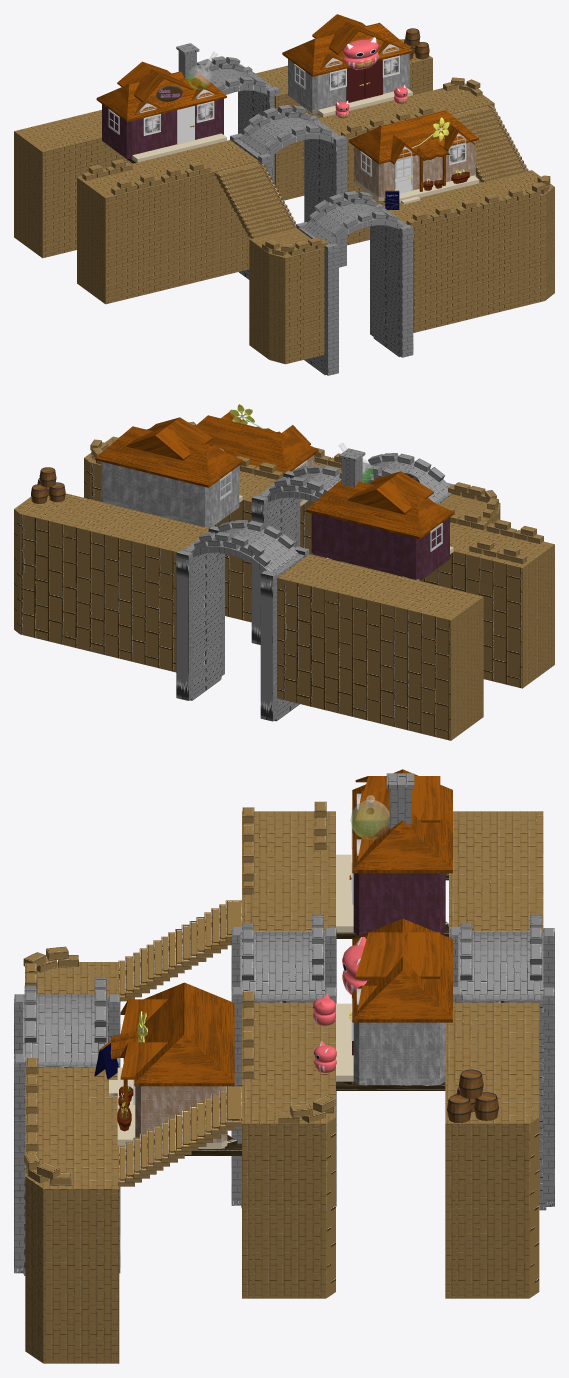
File: Map.fbx
3 views of the same model, one above another, from view 1: azimuth 30°, elevation 25°; view 2: azimuth 150°, elevation 25°; view 3: azimuth 270°, elevation 25° (orthographic). The views are drawn at different scales.
Visible parts, largest first — view 1: MapBase; view 2: MapBase; view 3: MapBase.
Part boxes in pixels (<box>): MapBase: <box>14,14,554,375</box>; MapBase: <box>14,404,554,740</box>; MapBase: <box>14,769,554,1363</box>.
Size of the model in its own units: 4595 by 2803 by 3351.
